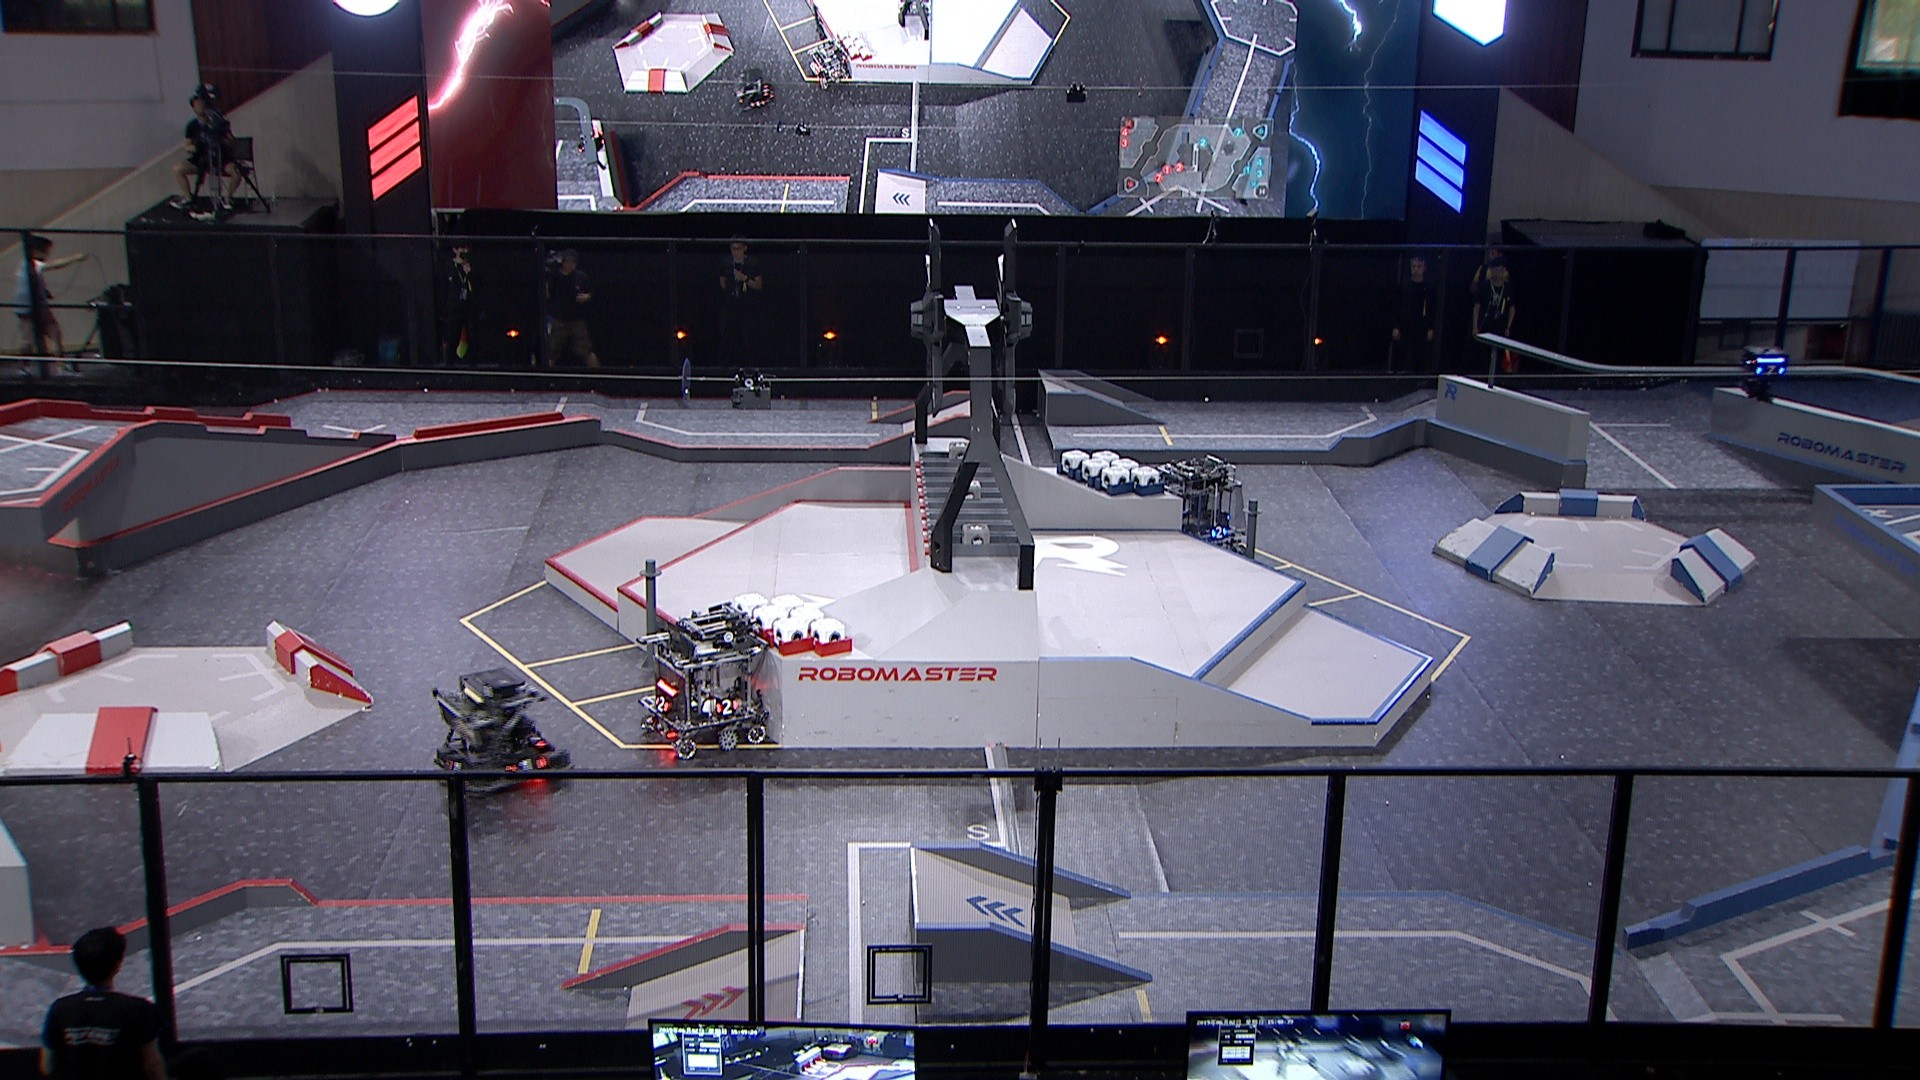armor: (512, 757, 547, 781), (443, 752, 465, 775), (713, 698, 740, 716), (651, 694, 673, 716), (1756, 361, 1783, 377), (527, 731, 549, 744), (1211, 526, 1225, 538)
car: (636, 603, 767, 757), (429, 665, 570, 800), (1147, 456, 1253, 562)
ignore: (803, 38, 858, 88), (731, 69, 774, 113), (575, 123, 607, 156)
watcher: (1738, 342, 1789, 404)
